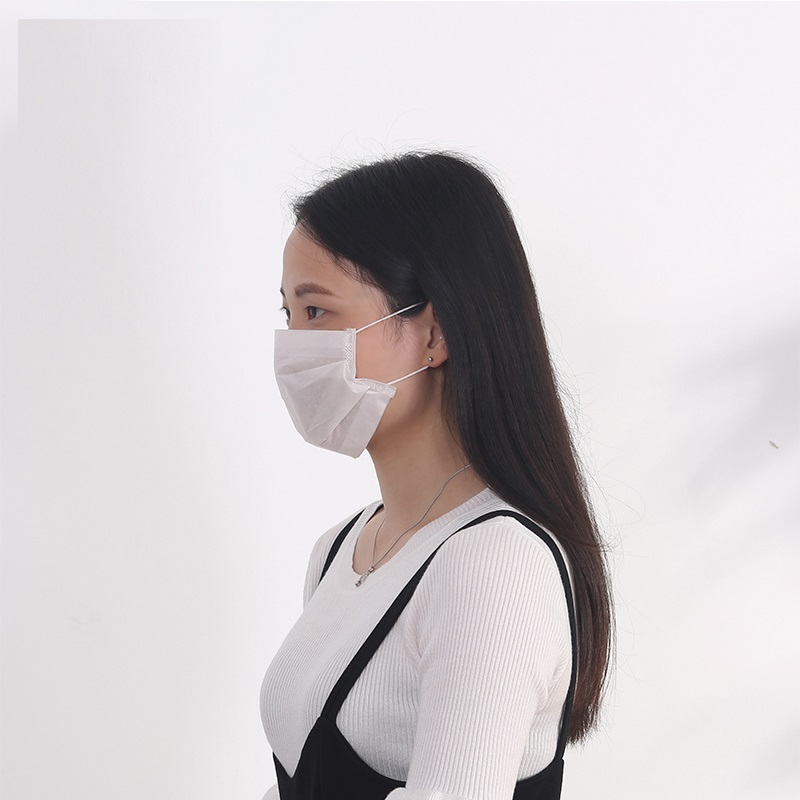face_mask: (273, 220, 400, 457)
